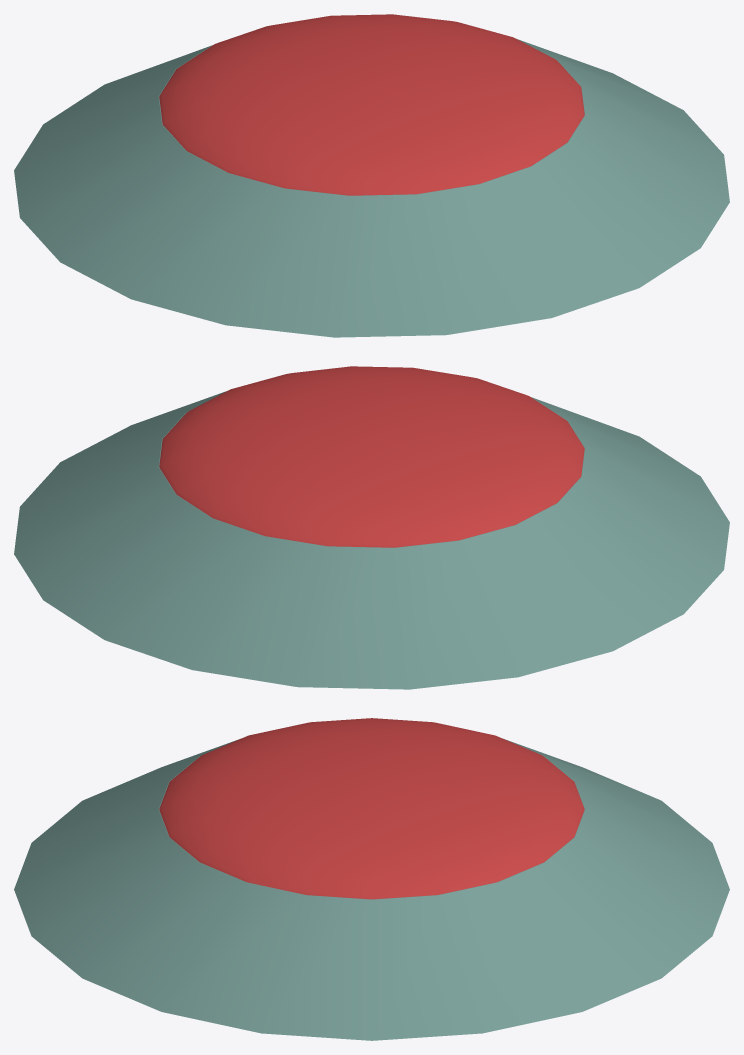
File: exit.fbx
The picture shows the model from 3 angles, top to bottom: view 1: azimuth 30°, elevation 25°; view 2: azimuth 150°, elevation 25°; view 3: azimuth 270°, elevation 25°; orthographic projection.
Visible parts, largest first — view 1: pCylinder2; view 2: pCylinder2; view 3: pCylinder2.
Boxes of the visible parts, x1,y1,x2,y2 form: pCylinder2: [14, 14, 729, 337]; pCylinder2: [14, 366, 729, 689]; pCylinder2: [14, 718, 729, 1040].
Bounding box in the file's own units: 0.0206 × 0.00353 × 0.0206.
